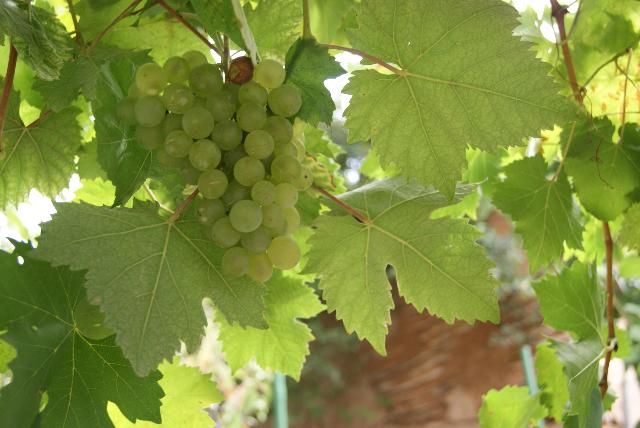grapes: (116, 51, 314, 282)
